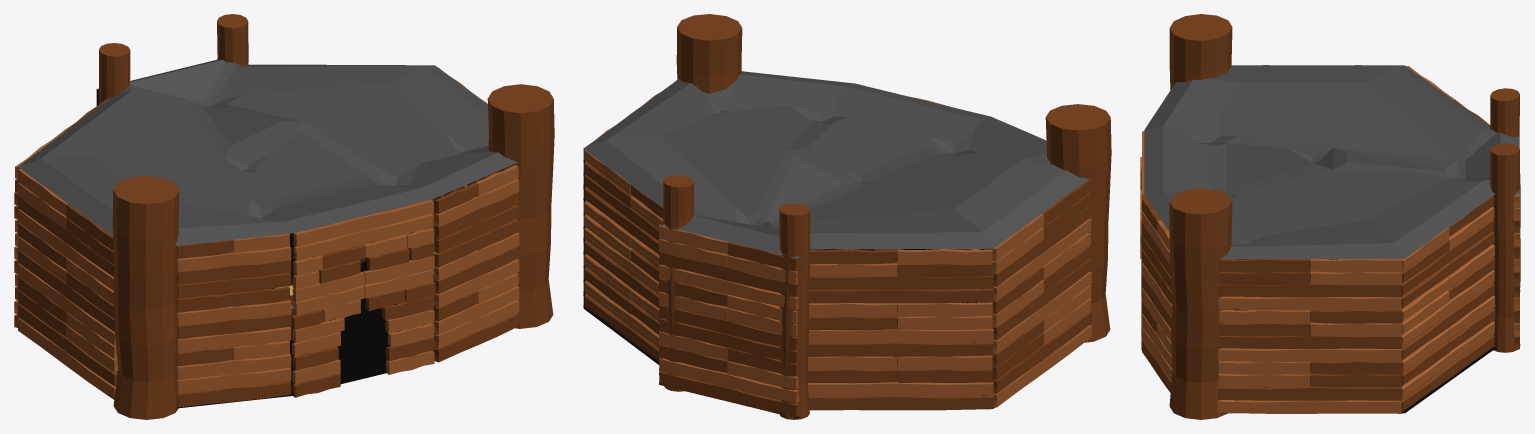
The model's file is salazidacerta.fbx.
3 views of the same model, side by side, from view 1: azimuth 30°, elevation 25°; view 2: azimuth 150°, elevation 25°; view 3: azimuth 270°, elevation 25° (orthographic). The views are drawn at different scales.
Visible parts, largest first — view 1: Cube, Cylinder.002, Cube.002, Cube.005, Cube.006, Cube.003, Cube.001, Cylinder.001, Cube.008; view 2: Cube, Cube.008, Cube.010, Cube.006, Cube.004, Cylinder.002, Cylinder.001; view 3: Cube, Cube.006, Cylinder.002, Cube.004, Cylinder.001, Cube.003, Cube.010.
Boxes of the visible parts, x1,y1,x2,y2 form: Cube: (18,59,517,408); Cylinder.002: (112,84,554,419); Cube.002: (176,234,291,407); Cube.005: (291,227,435,397); Cube.006: (18,67,487,399); Cube.003: (434,165,519,362); Cube.001: (293,200,433,261); Cylinder.001: (99,14,248,104); Cube.008: (14,99,108,327); Cube: (583,71,1088,418); Cube.008: (807,249,993,410); Cube.010: (659,224,799,416); Cube.006: (583,79,1091,407); Cube.004: (584,149,663,361); Cylinder.002: (676,14,1111,342); Cylinder.001: (663,175,810,419); Cube: (1144,65,1519,413); Cube.006: (1218,65,1402,413); Cylinder.002: (1169,14,1233,419); Cube.004: (1399,195,1495,411); Cylinder.001: (1490,88,1520,352); Cube.003: (1142,198,1172,392); Cube.010: (1513,145,1519,349).
Bounding box in the file's own units: 416 × 199 × 332.
